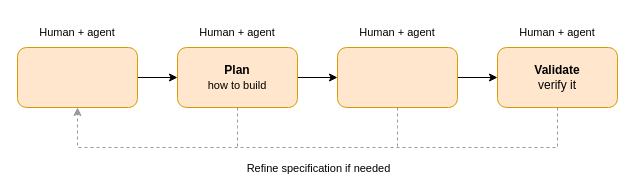
Image size: 635x191. Some labels were removed from this diagram. The shapes that lost their labels are listed below. From the top down, each one's box as (x1, y1, x2, y2) in pixels, then its label:
(16, 46, 138, 108): Specify what to build
(336, 46, 458, 108): Implement build it
